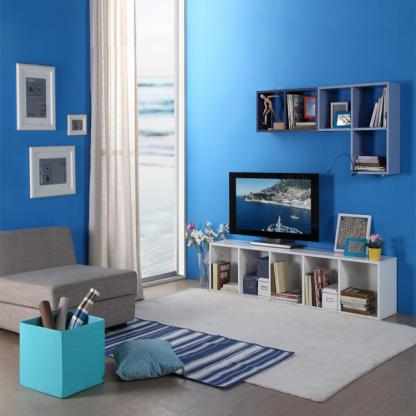TV stand: (206, 231, 398, 325)
